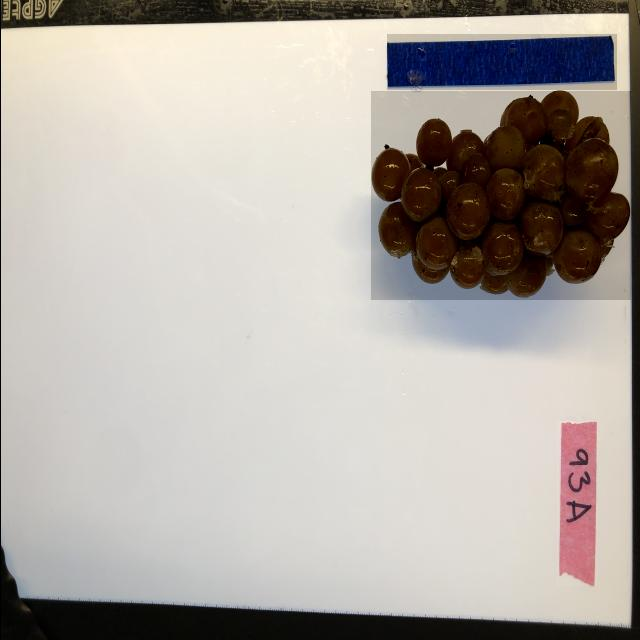grape_cluster: (370, 91, 630, 300)
index: (556, 421, 597, 586)
measure_label: (386, 34, 616, 90)
